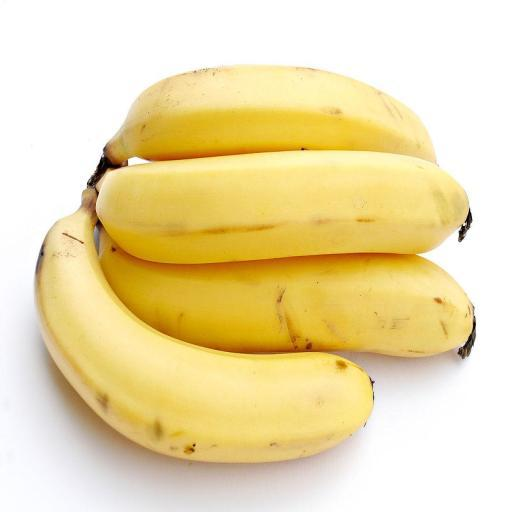banana: (35, 190, 372, 462), (100, 228, 474, 356), (97, 151, 468, 263), (104, 66, 435, 165)
